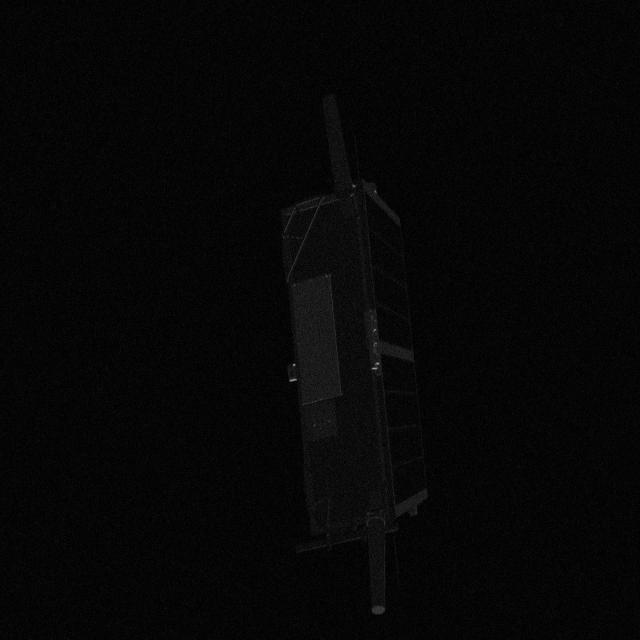satellite: (274, 94, 432, 620)
